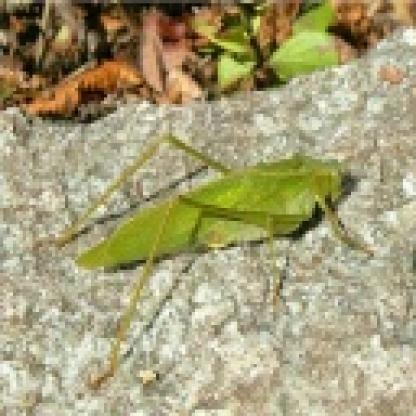grasshopper: (36, 122, 375, 374)
